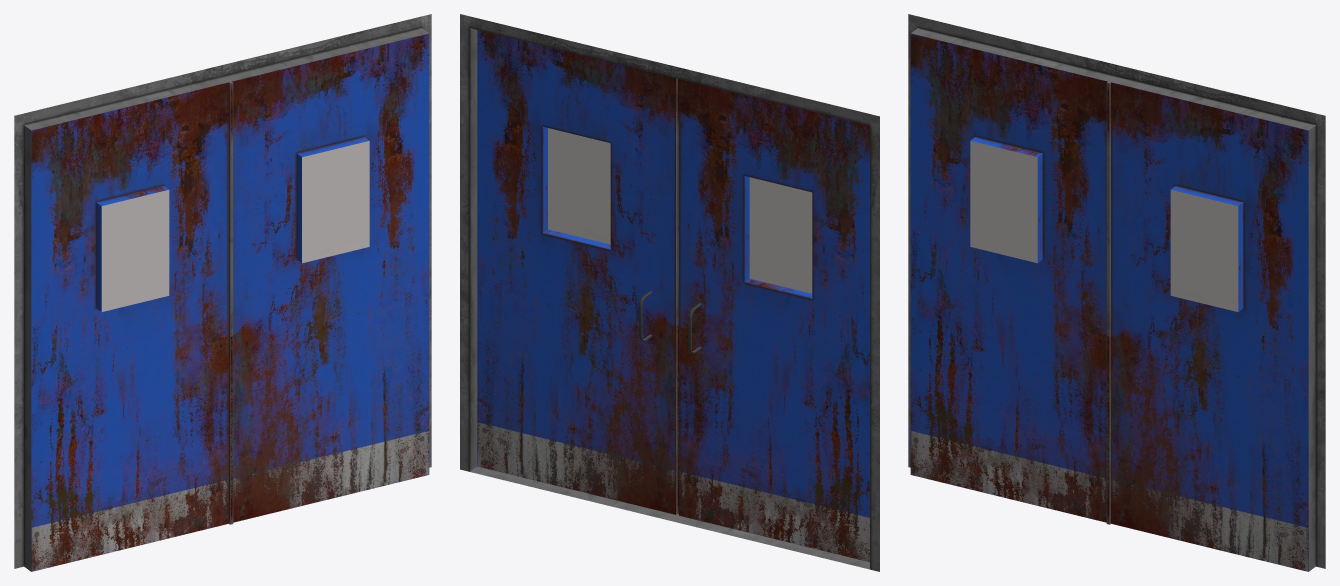
Rendered from double_doors.glb.
3 views of the same model, side by side, from view 1: azimuth 30°, elevation 25°; view 2: azimuth 150°, elevation 25°; view 3: azimuth 330°, elevation 25° (orthographic).
Parts seen in each view (by area): view 1: SM_theatre_door_M_theatre_door_0; view 2: SM_theatre_door_M_theatre_door_0; view 3: SM_theatre_door_M_theatre_door_0.
Part boxes in pixels (bbox=[...]): SM_theatre_door_M_theatre_door_0: bbox=[14, 14, 431, 571]; SM_theatre_door_M_theatre_door_0: bbox=[460, 14, 879, 571]; SM_theatre_door_M_theatre_door_0: bbox=[908, 14, 1325, 571].
Size of the model in its own units: 3.35 by 3.48 by 0.2209.
1 material, 1 textured.
